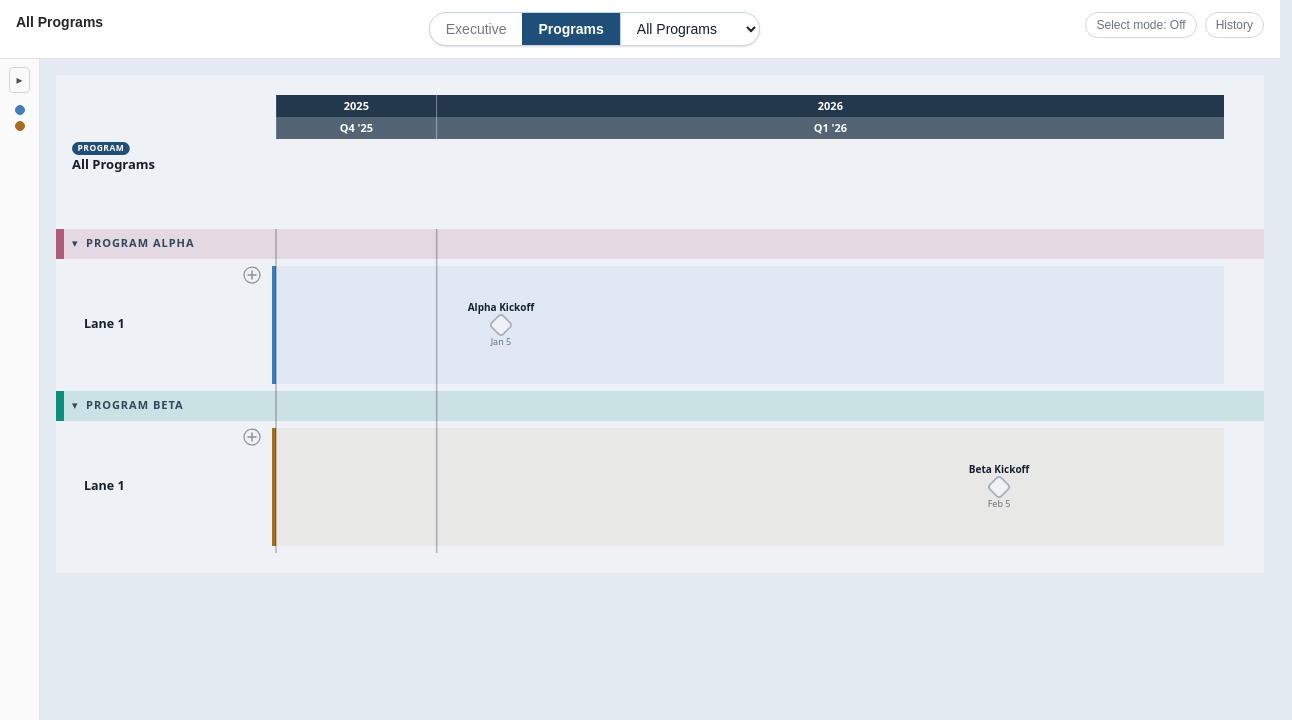
AllProgramsPage — New Program (wayframe UX-2026-09-18 §7) › shows an inline error when the extract route fails
Click the button named "Open the Programs rail" at (20, 80), box [10,67,30,93]
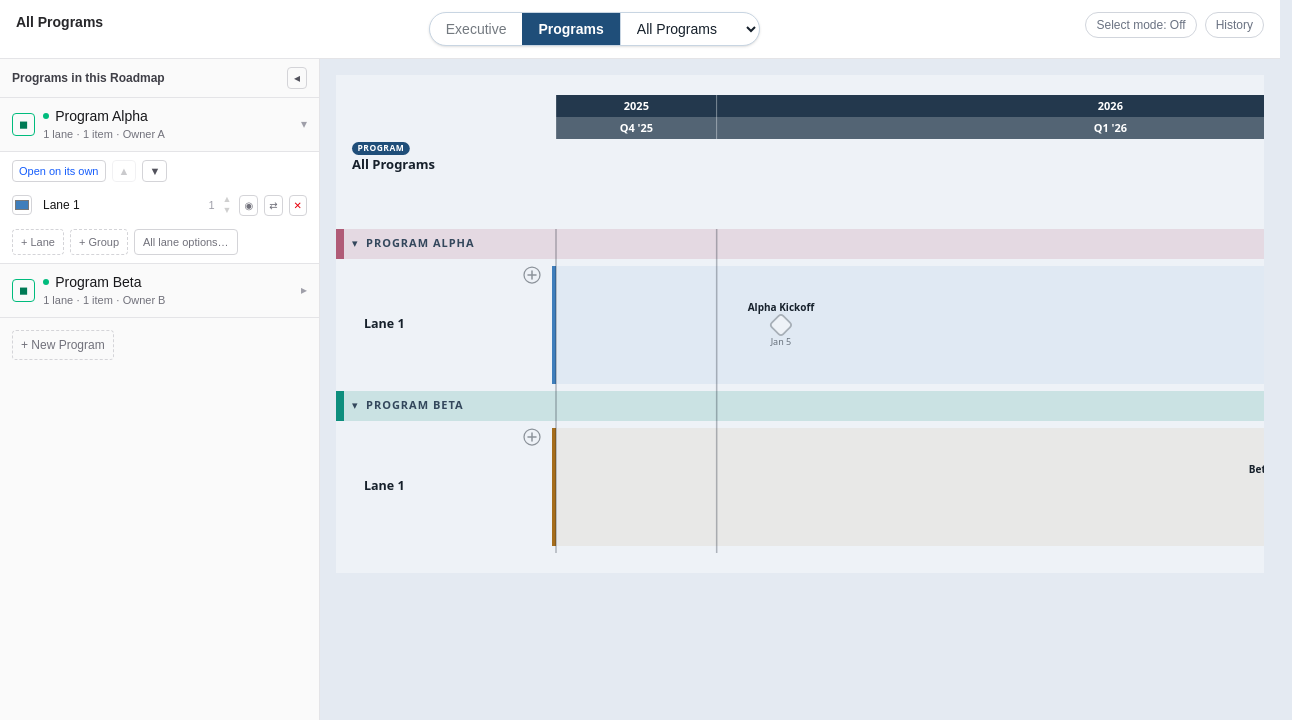
Click the button "+ New Program" at (63, 344), box [12,330,114,360]
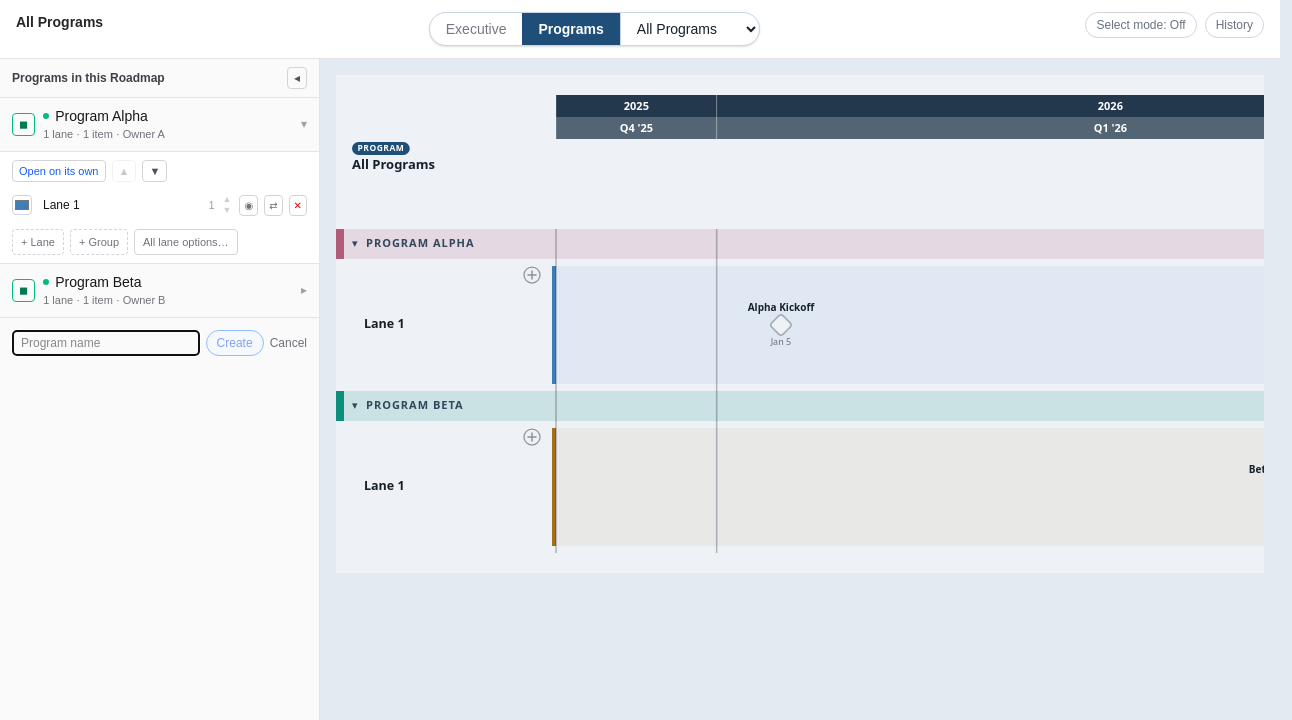
Type "Q3 Launch" into the field named "New Program name" at (106, 342), box [12,330,200,356]
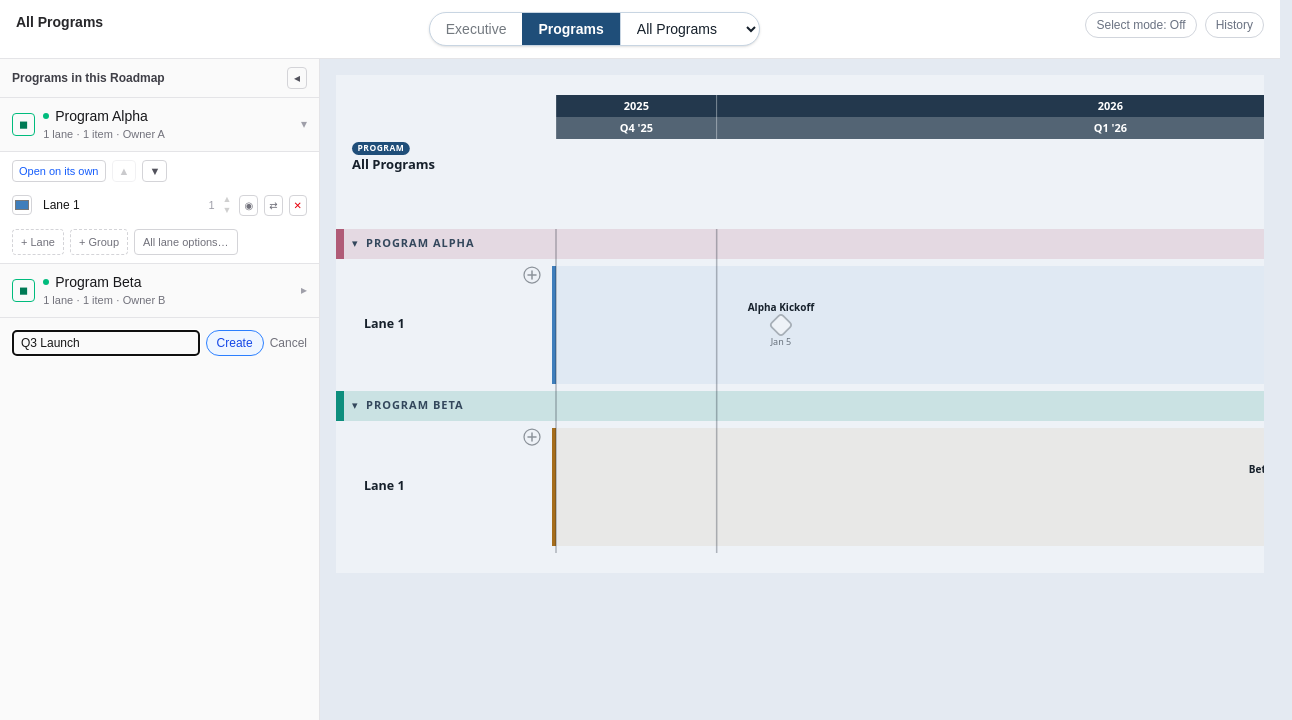
Click the button "Create" at (235, 342), box [206,330,264,356]
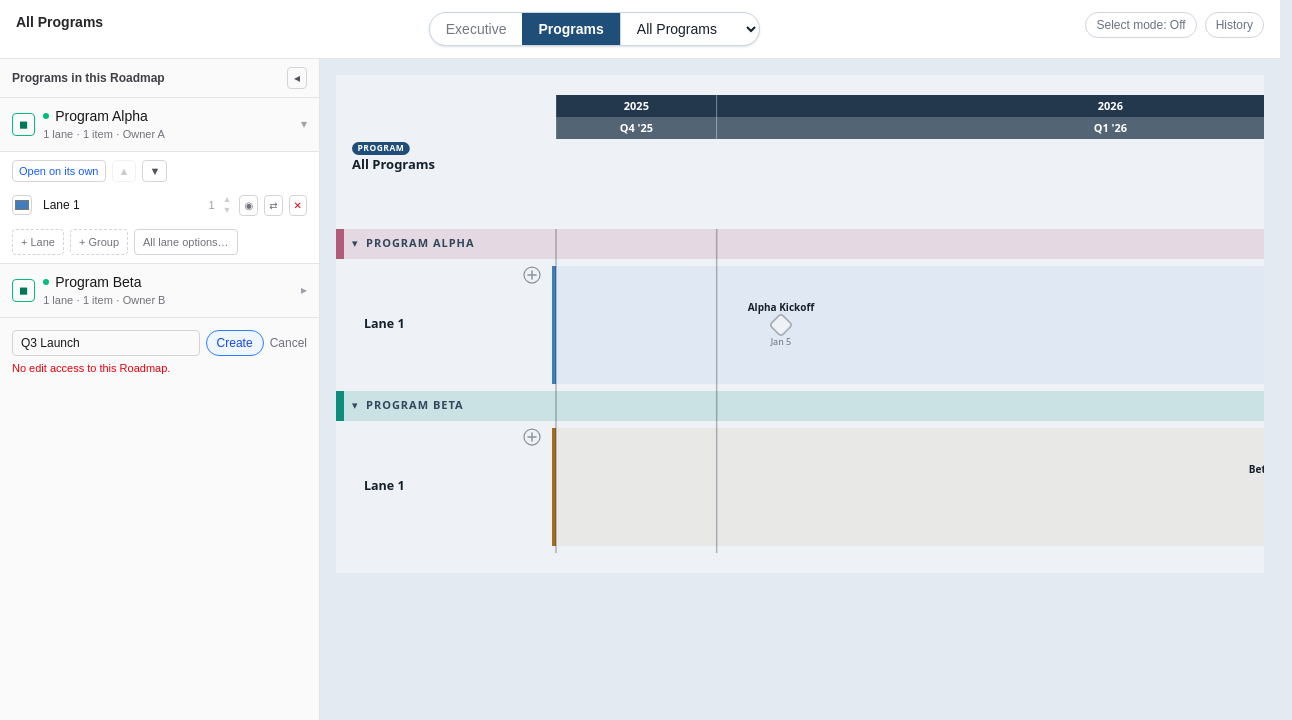
Result: the text "No edit access to this Roadmap." is shown at [12,362,170,374]
